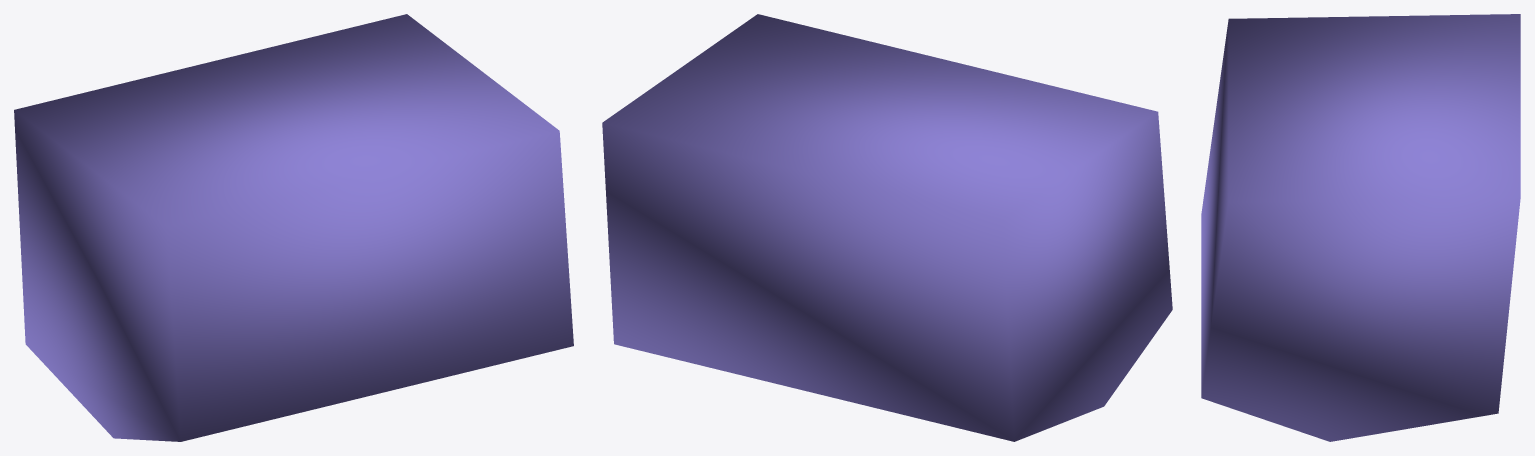
The model's file is Rock_Small_02_SPR_COL.fbx.
3 renders of one model, left to right at view 1: azimuth 30°, elevation 25°; view 2: azimuth 150°, elevation 25°; view 3: azimuth 270°, elevation 25°, orthographic. The views are drawn at different scales.
Visible parts, largest first — view 1: Rock_Small_02_SPR_COL; view 2: Rock_Small_02_SPR_COL; view 3: Rock_Small_02_SPR_COL.
Part boxes in pixels (left/top/right/bottom): Rock_Small_02_SPR_COL: left=14, top=14, right=573, bottom=441; Rock_Small_02_SPR_COL: left=602, top=14, right=1172, bottom=441; Rock_Small_02_SPR_COL: left=1201, top=14, right=1520, bottom=441.
Bounding box in the file's own units: 66.62 × 41.4 × 49.01.
